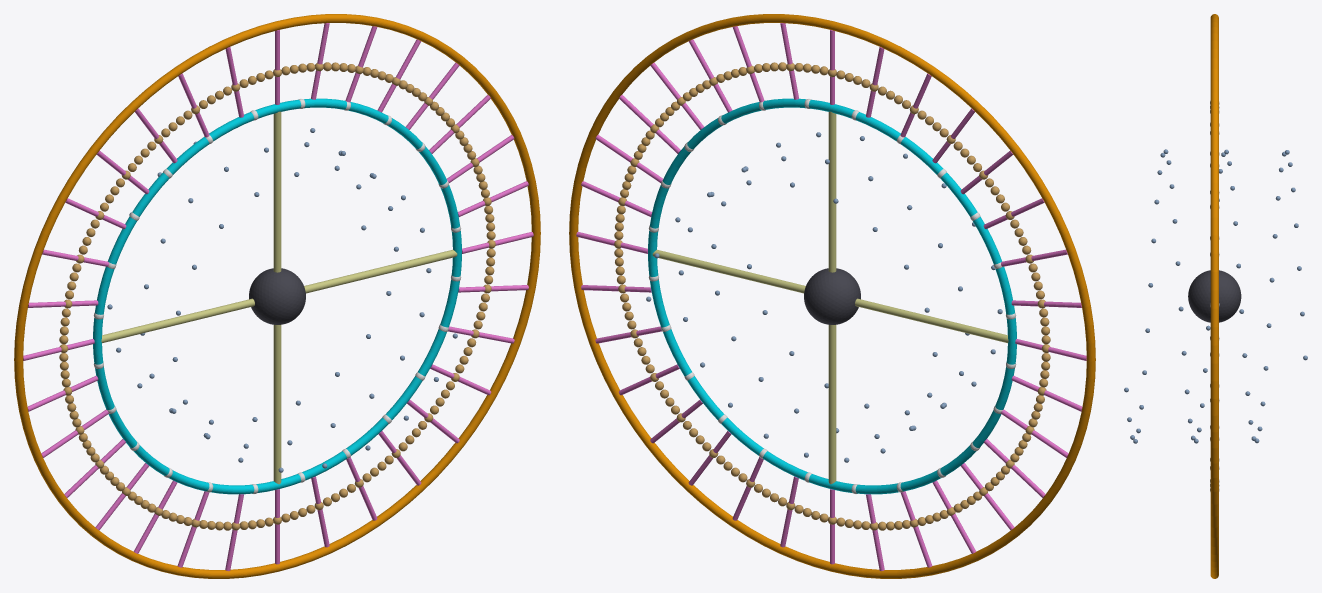
The model's file is cosmic_resonance_cross_sorting_wheel.glb.
The picture shows the model from 3 angles, left to right: view 1: azimuth 30°, elevation 25°; view 2: azimuth 150°, elevation 25°; view 3: azimuth 270°, elevation 25°; orthographic projection. The views are drawn at different scales.
Visible parts, largest first — view 1: world, Sorter Outer Ring, Sorter Inner Ring; view 2: world, Sorter Outer Ring, Sorter Inner Ring; view 3: Sorter Outer Ring, world.
Part boxes in pixels (x1,y1,x2,y2): world: (23, 23, 533, 571); Sorter Outer Ring: (14, 14, 540, 578); Sorter Inner Ring: (93, 98, 461, 494); world: (576, 23, 1086, 571); Sorter Outer Ring: (569, 14, 1095, 578); Sorter Inner Ring: (648, 98, 1016, 494); Sorter Outer Ring: (1210, 14, 1218, 578); world: (1124, 101, 1307, 491).
Size of the model in its own units: 4.67 by 4.67 by 1.52.
